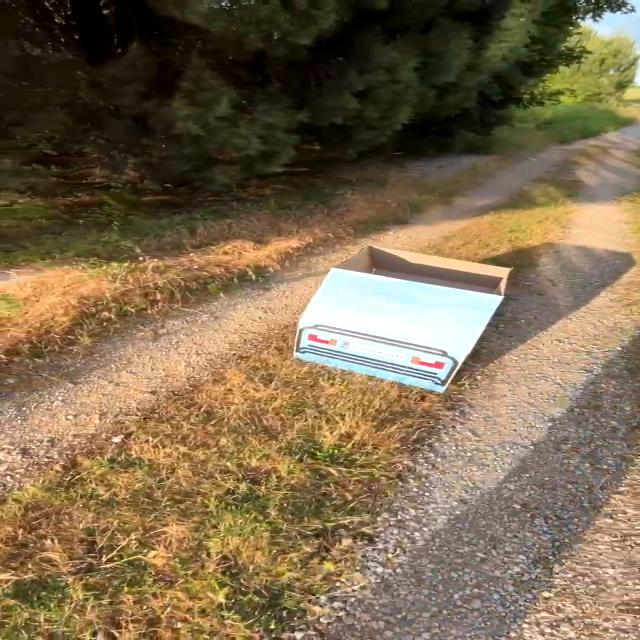blue_car: (235, 221, 541, 415)
